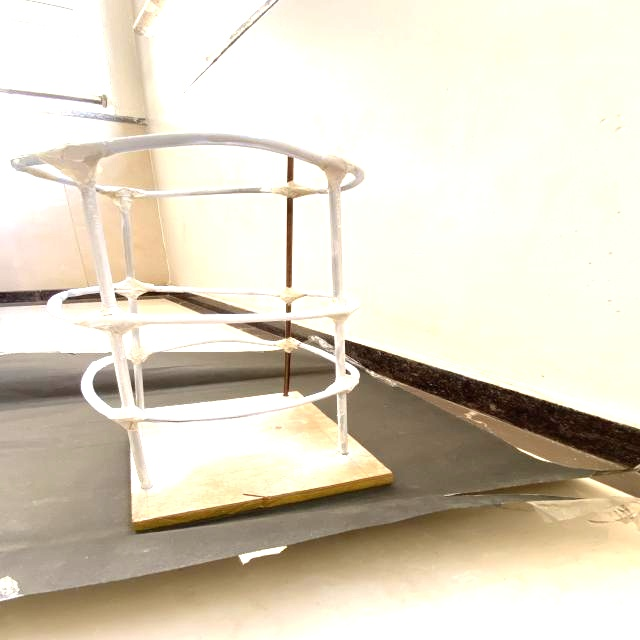silo: (6, 122, 399, 532)
